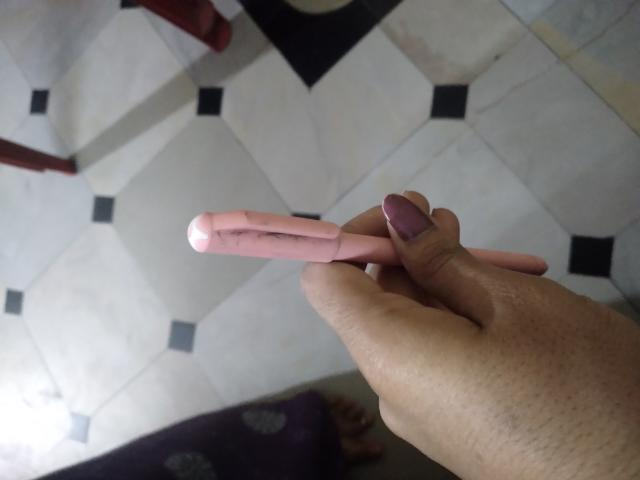PEN: (178, 175, 285, 480)
